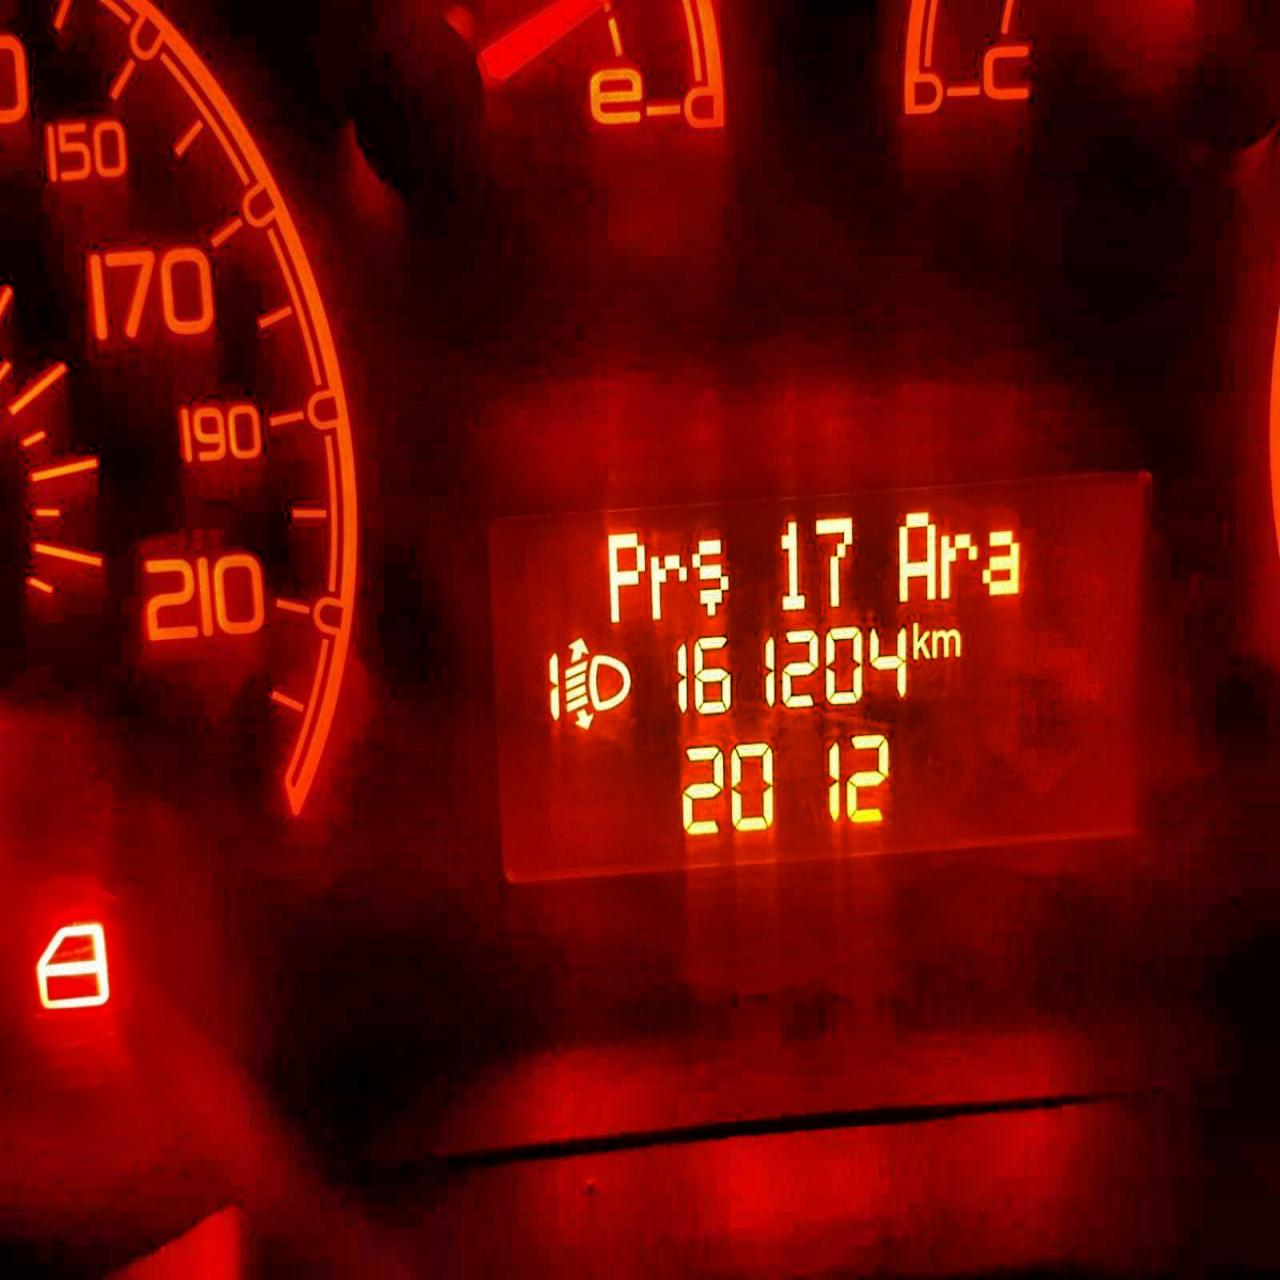0: (727, 738, 772, 833), (822, 621, 863, 708)
1: (778, 517, 805, 613), (822, 729, 843, 825), (673, 635, 689, 715), (545, 649, 561, 726), (762, 632, 777, 710)
2: (844, 730, 890, 826), (679, 742, 722, 838), (783, 627, 817, 708)
4: (869, 622, 907, 700)
6: (693, 634, 734, 715)
7: (812, 511, 856, 608)
X: (896, 506, 937, 602), (604, 529, 645, 622), (690, 538, 729, 617), (980, 526, 1020, 598), (938, 529, 976, 601), (648, 550, 686, 620), (931, 626, 964, 658), (911, 619, 931, 661)
odometer: (475, 482, 1163, 881)
